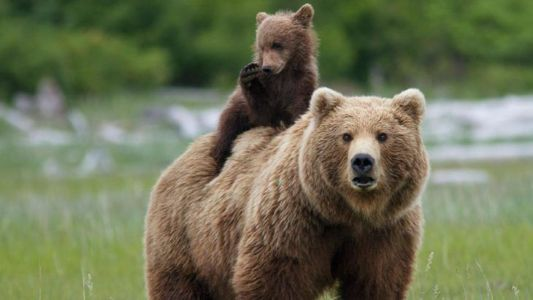bear: (147, 96, 431, 293), (209, 4, 318, 149)
